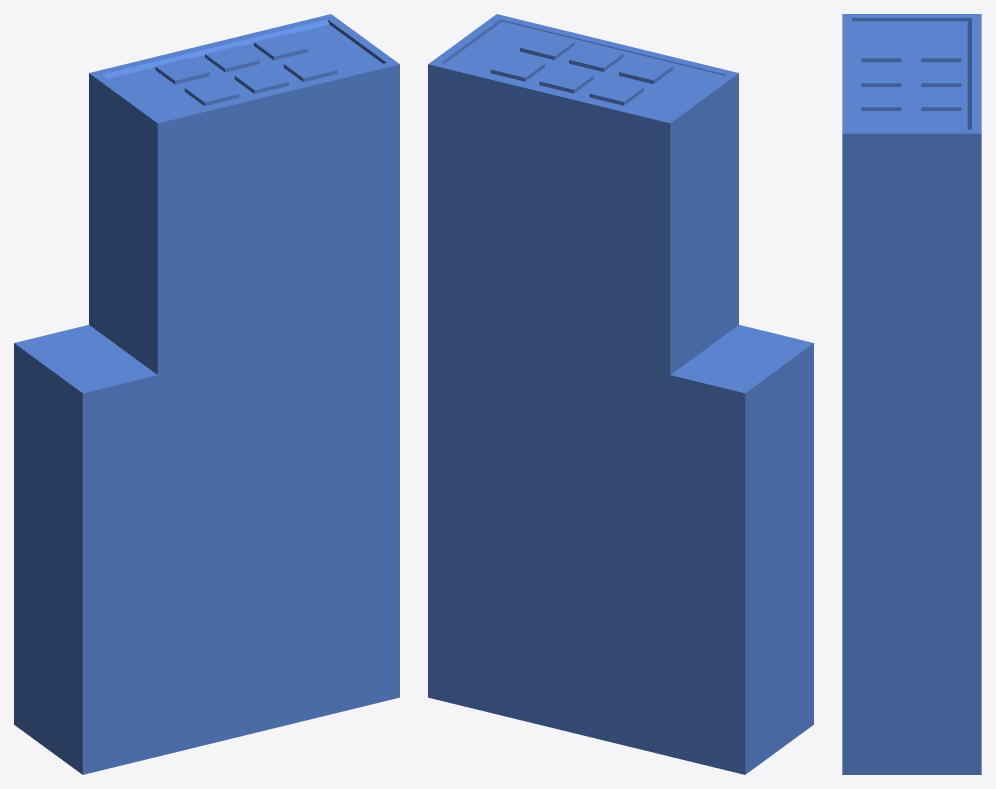
Rendered from Building7_blue.fbx.
3 renders of one model, left to right at view 1: azimuth 30°, elevation 25°; view 2: azimuth 150°, elevation 25°; view 3: azimuth 270°, elevation 25°, orthographic.
Parts seen in each view (by area): view 1: Building 7; view 2: Building 7; view 3: Building 7.
Part boxes in pixels (bbox=[...]): Building 7: bbox=[14, 14, 399, 774]; Building 7: bbox=[428, 14, 813, 774]; Building 7: bbox=[842, 14, 981, 774].
Bounding box in the file's own units: 2204 × 4209 × 828.
1 material, 1 textured.
